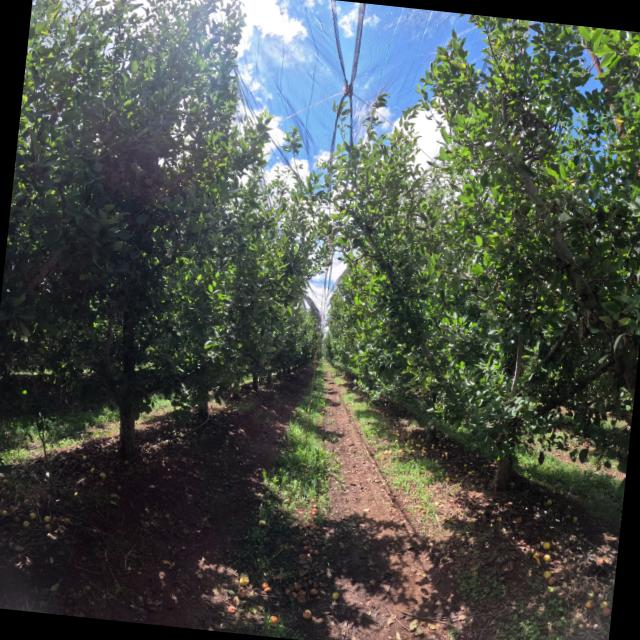-FireBlight-: (576, 310, 594, 340)
